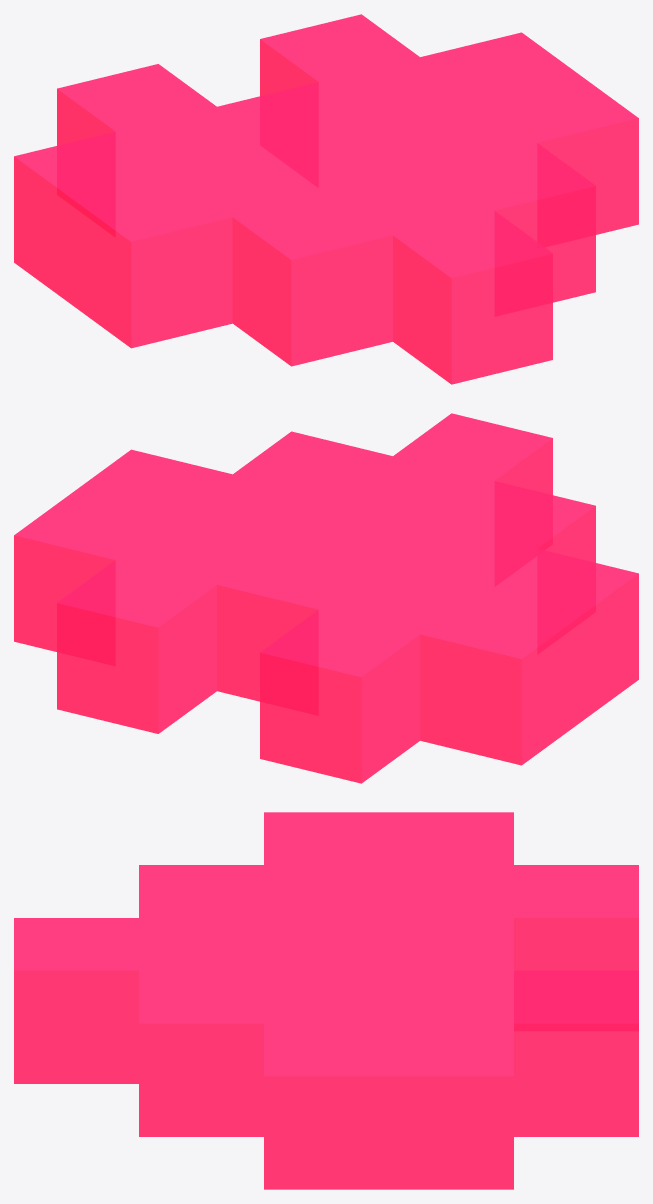
Rendered from pixelHeart.gltf.
3 renders of one model, top to bottom at view 1: azimuth 30°, elevation 25°; view 2: azimuth 150°, elevation 25°; view 3: azimuth 270°, elevation 25°, orthographic. The views are drawn at different scales.
Visible parts, largest first — view 1: Heart; view 2: Heart; view 3: Heart.
Boxes of the visible parts, bbox=[...] form: Heart: bbox=[14, 14, 638, 384]; Heart: bbox=[14, 413, 638, 783]; Heart: bbox=[14, 812, 638, 1189].
Bounding box in the file's own units: 2 × 0.4002 × 2.
